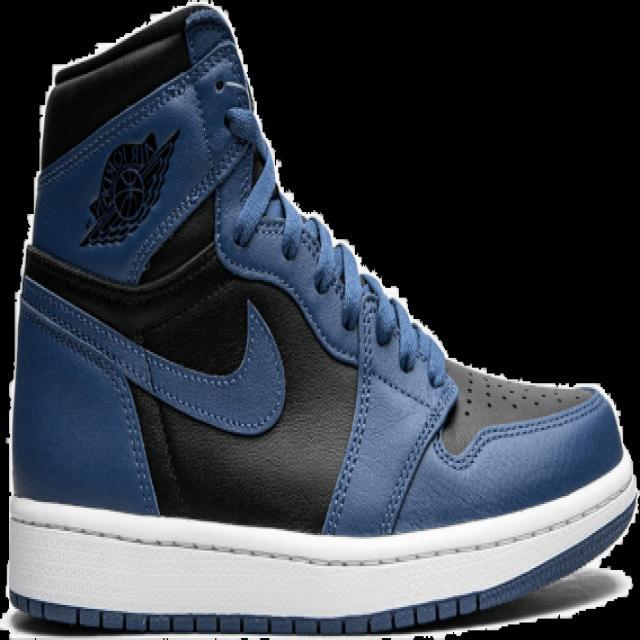J1_InsoleChar: (3, 0, 638, 635)
J1_ShoeLogo: (76, 126, 181, 249)
J1_StitchPattern: (217, 14, 457, 532), (261, 146, 623, 446), (8, 478, 637, 573), (3, 566, 633, 637), (8, 591, 480, 635), (124, 137, 250, 283), (440, 354, 626, 449), (320, 278, 383, 535), (456, 366, 594, 419), (459, 366, 476, 419)
